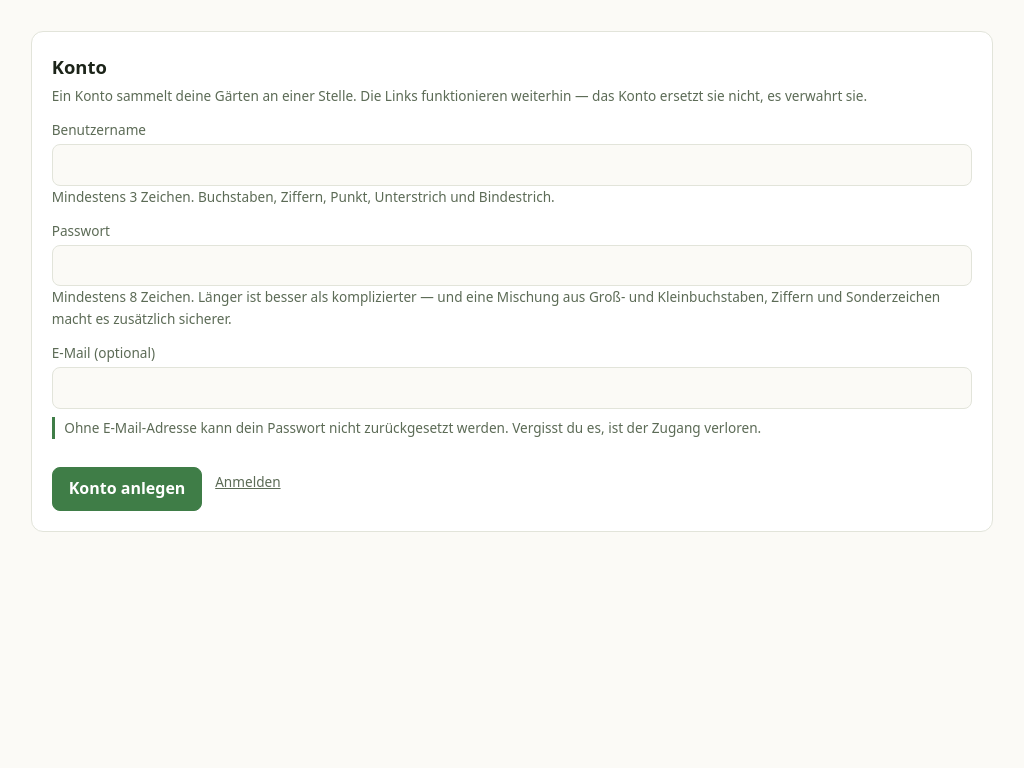
Test case: AccountPanel › refuses a password shorter than the server would accept
// Told here rather than after a round trip that returns a 422.
Step 1. Type "anna" into the field labelled "Benutzername" → (512, 165), box [52,144,972,186]
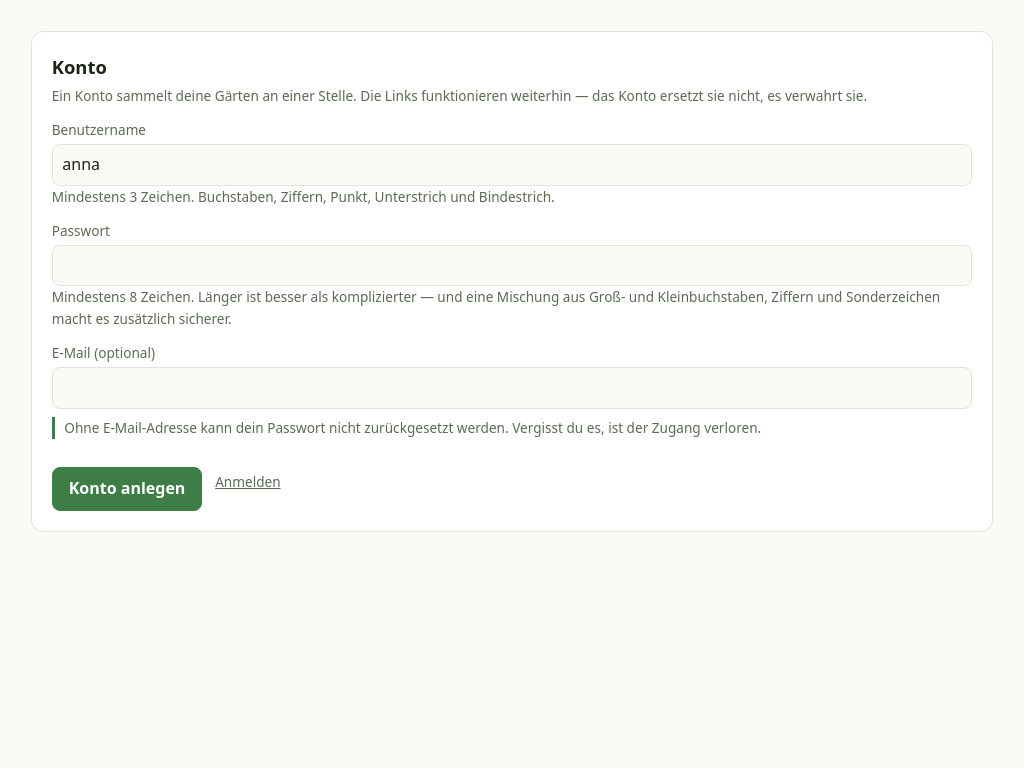
Step 2. Type "kurz" into the password field labelled "Passwort" → (512, 266), box [52,244,972,286]
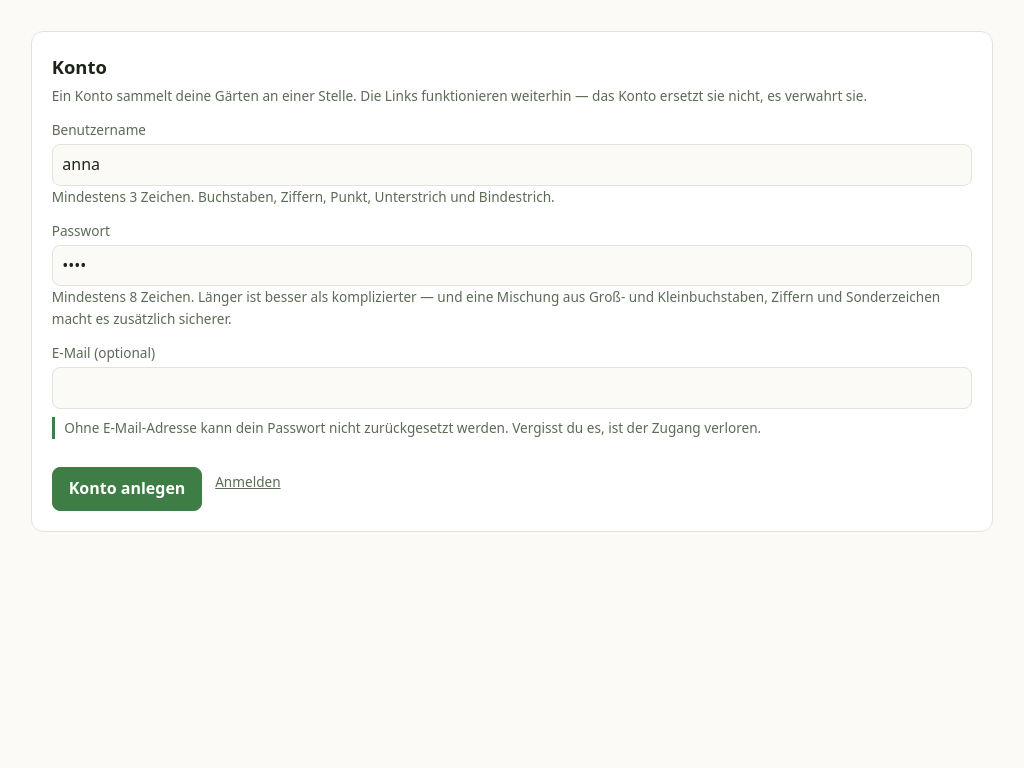
Step 3. Click the button "Konto anlegen" → (127, 489), box [52,467,202,511]
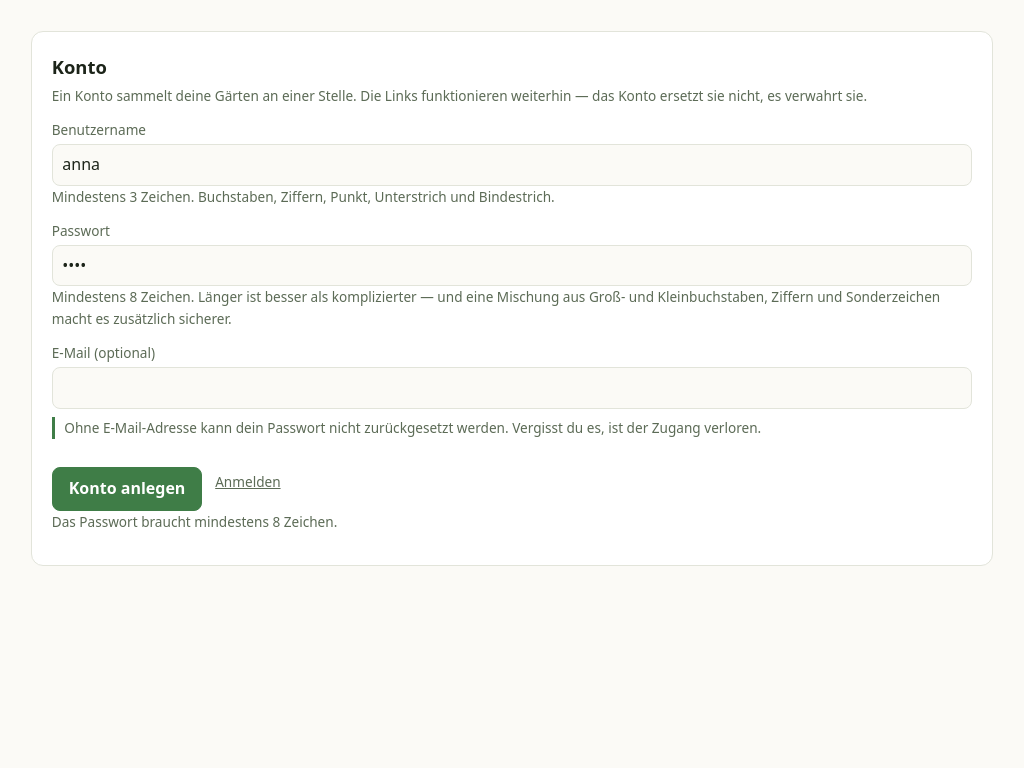
Now the message "Das Passwort braucht mindestens 8 Zeichen." is shown, box [52,512,337,531]
